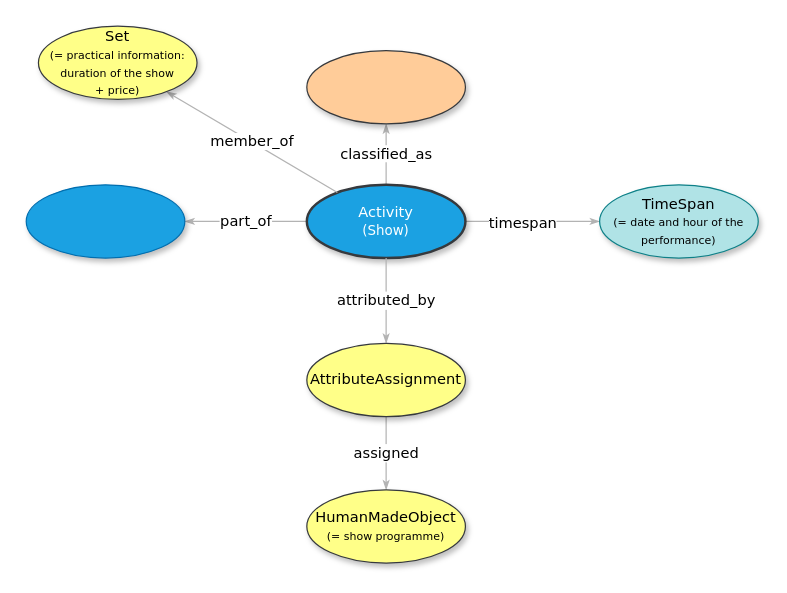
This 787x593 diagram has some shape labels left out. The centre of each missing label's shape, as x and y in pixels:
Activity (Production): (106,223)
Type (Show): (387,88)
